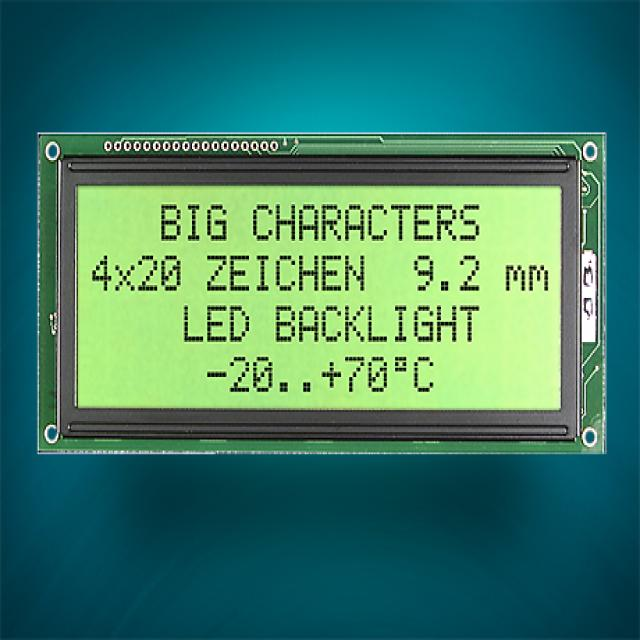Display: (28, 125, 615, 468)
